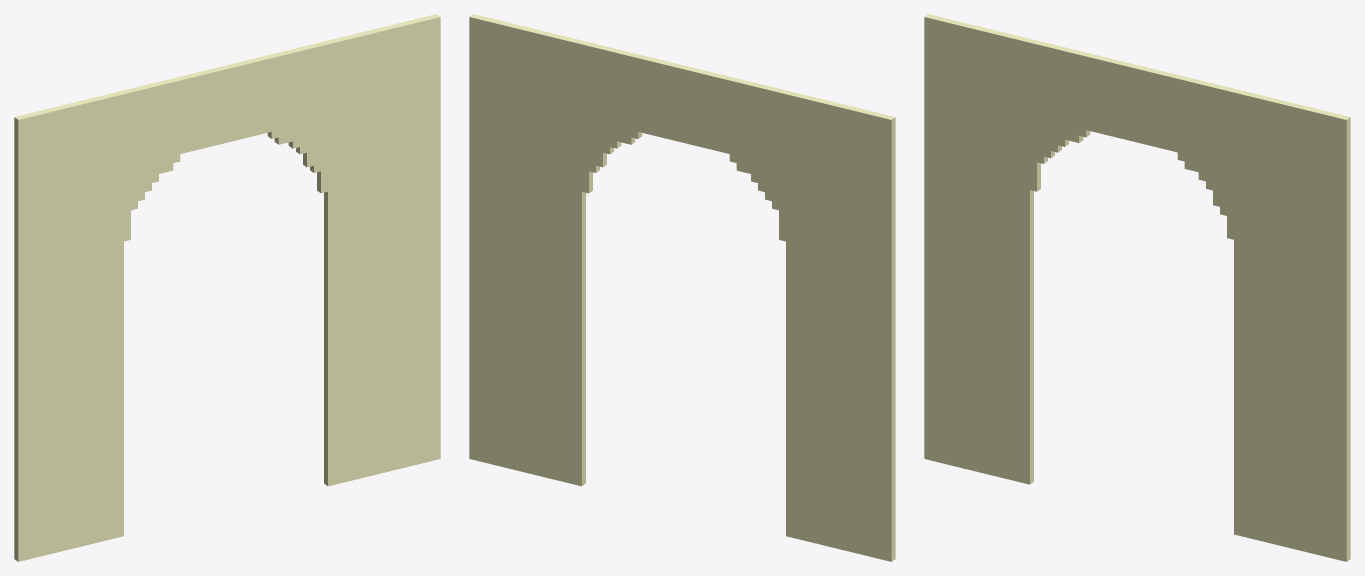
The model's file is wall door entry 2.obj.
3 renders of one model, left to right at view 1: azimuth 30°, elevation 25°; view 2: azimuth 150°, elevation 25°; view 3: azimuth 330°, elevation 25°, orthographic.
Size of the model in its own units: 6 by 6 by 0.1.
1 material, 1 textured.
